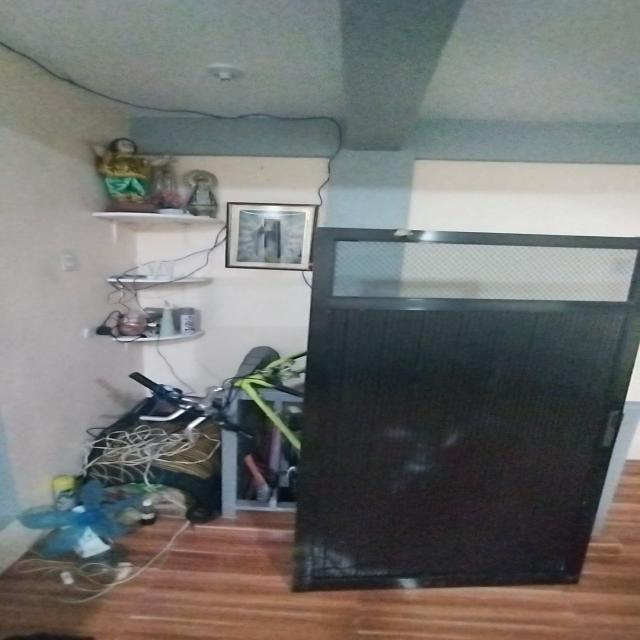door: (298, 222, 640, 593)
